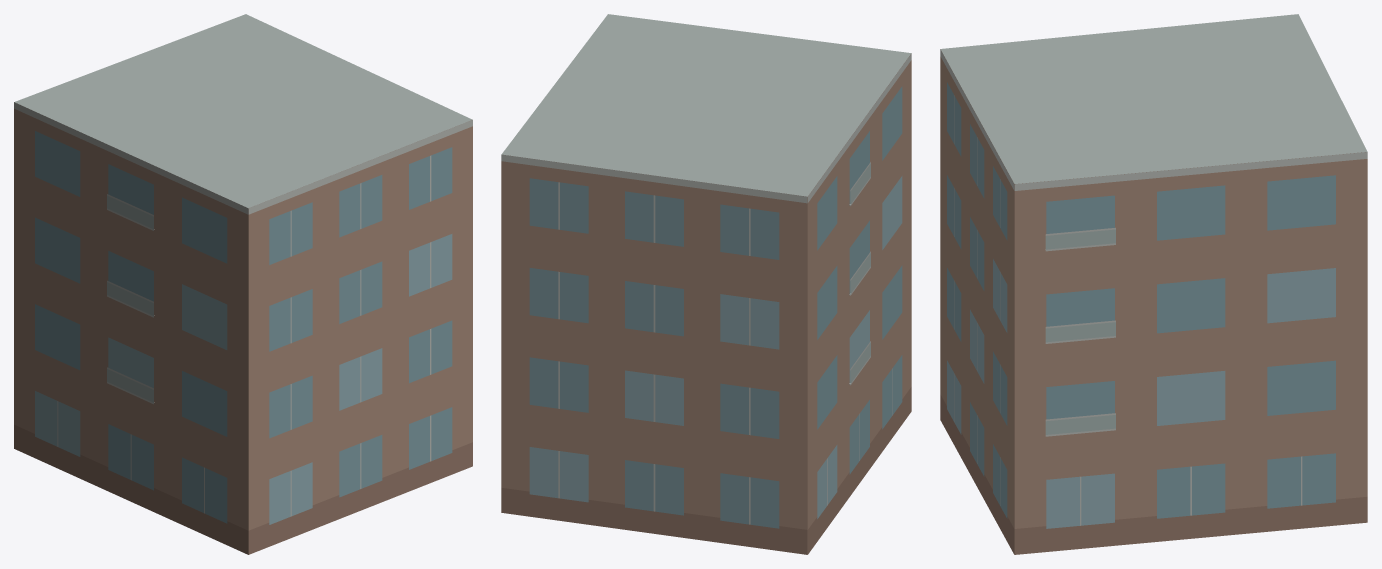
The model's file is survey-upis-32716361.glb.
3 renders of one model, left to right at view 1: azimuth 30°, elevation 25°; view 2: azimuth 150°, elevation 25°; view 3: azimuth 270°, elevation 25°, orthographic. The views are drawn at different scales.
Visible parts, largest first — view 1: survey-upis-32716361.tmp; view 2: survey-upis-32716361.tmp; view 3: survey-upis-32716361.tmp.
Part boxes in pixels (x1,y1,x2,y2): survey-upis-32716361.tmp: [14, 14, 472, 554]; survey-upis-32716361.tmp: [501, 14, 911, 554]; survey-upis-32716361.tmp: [940, 14, 1367, 554].
Size of the model in its own units: 12.8 by 13 by 13.59.
